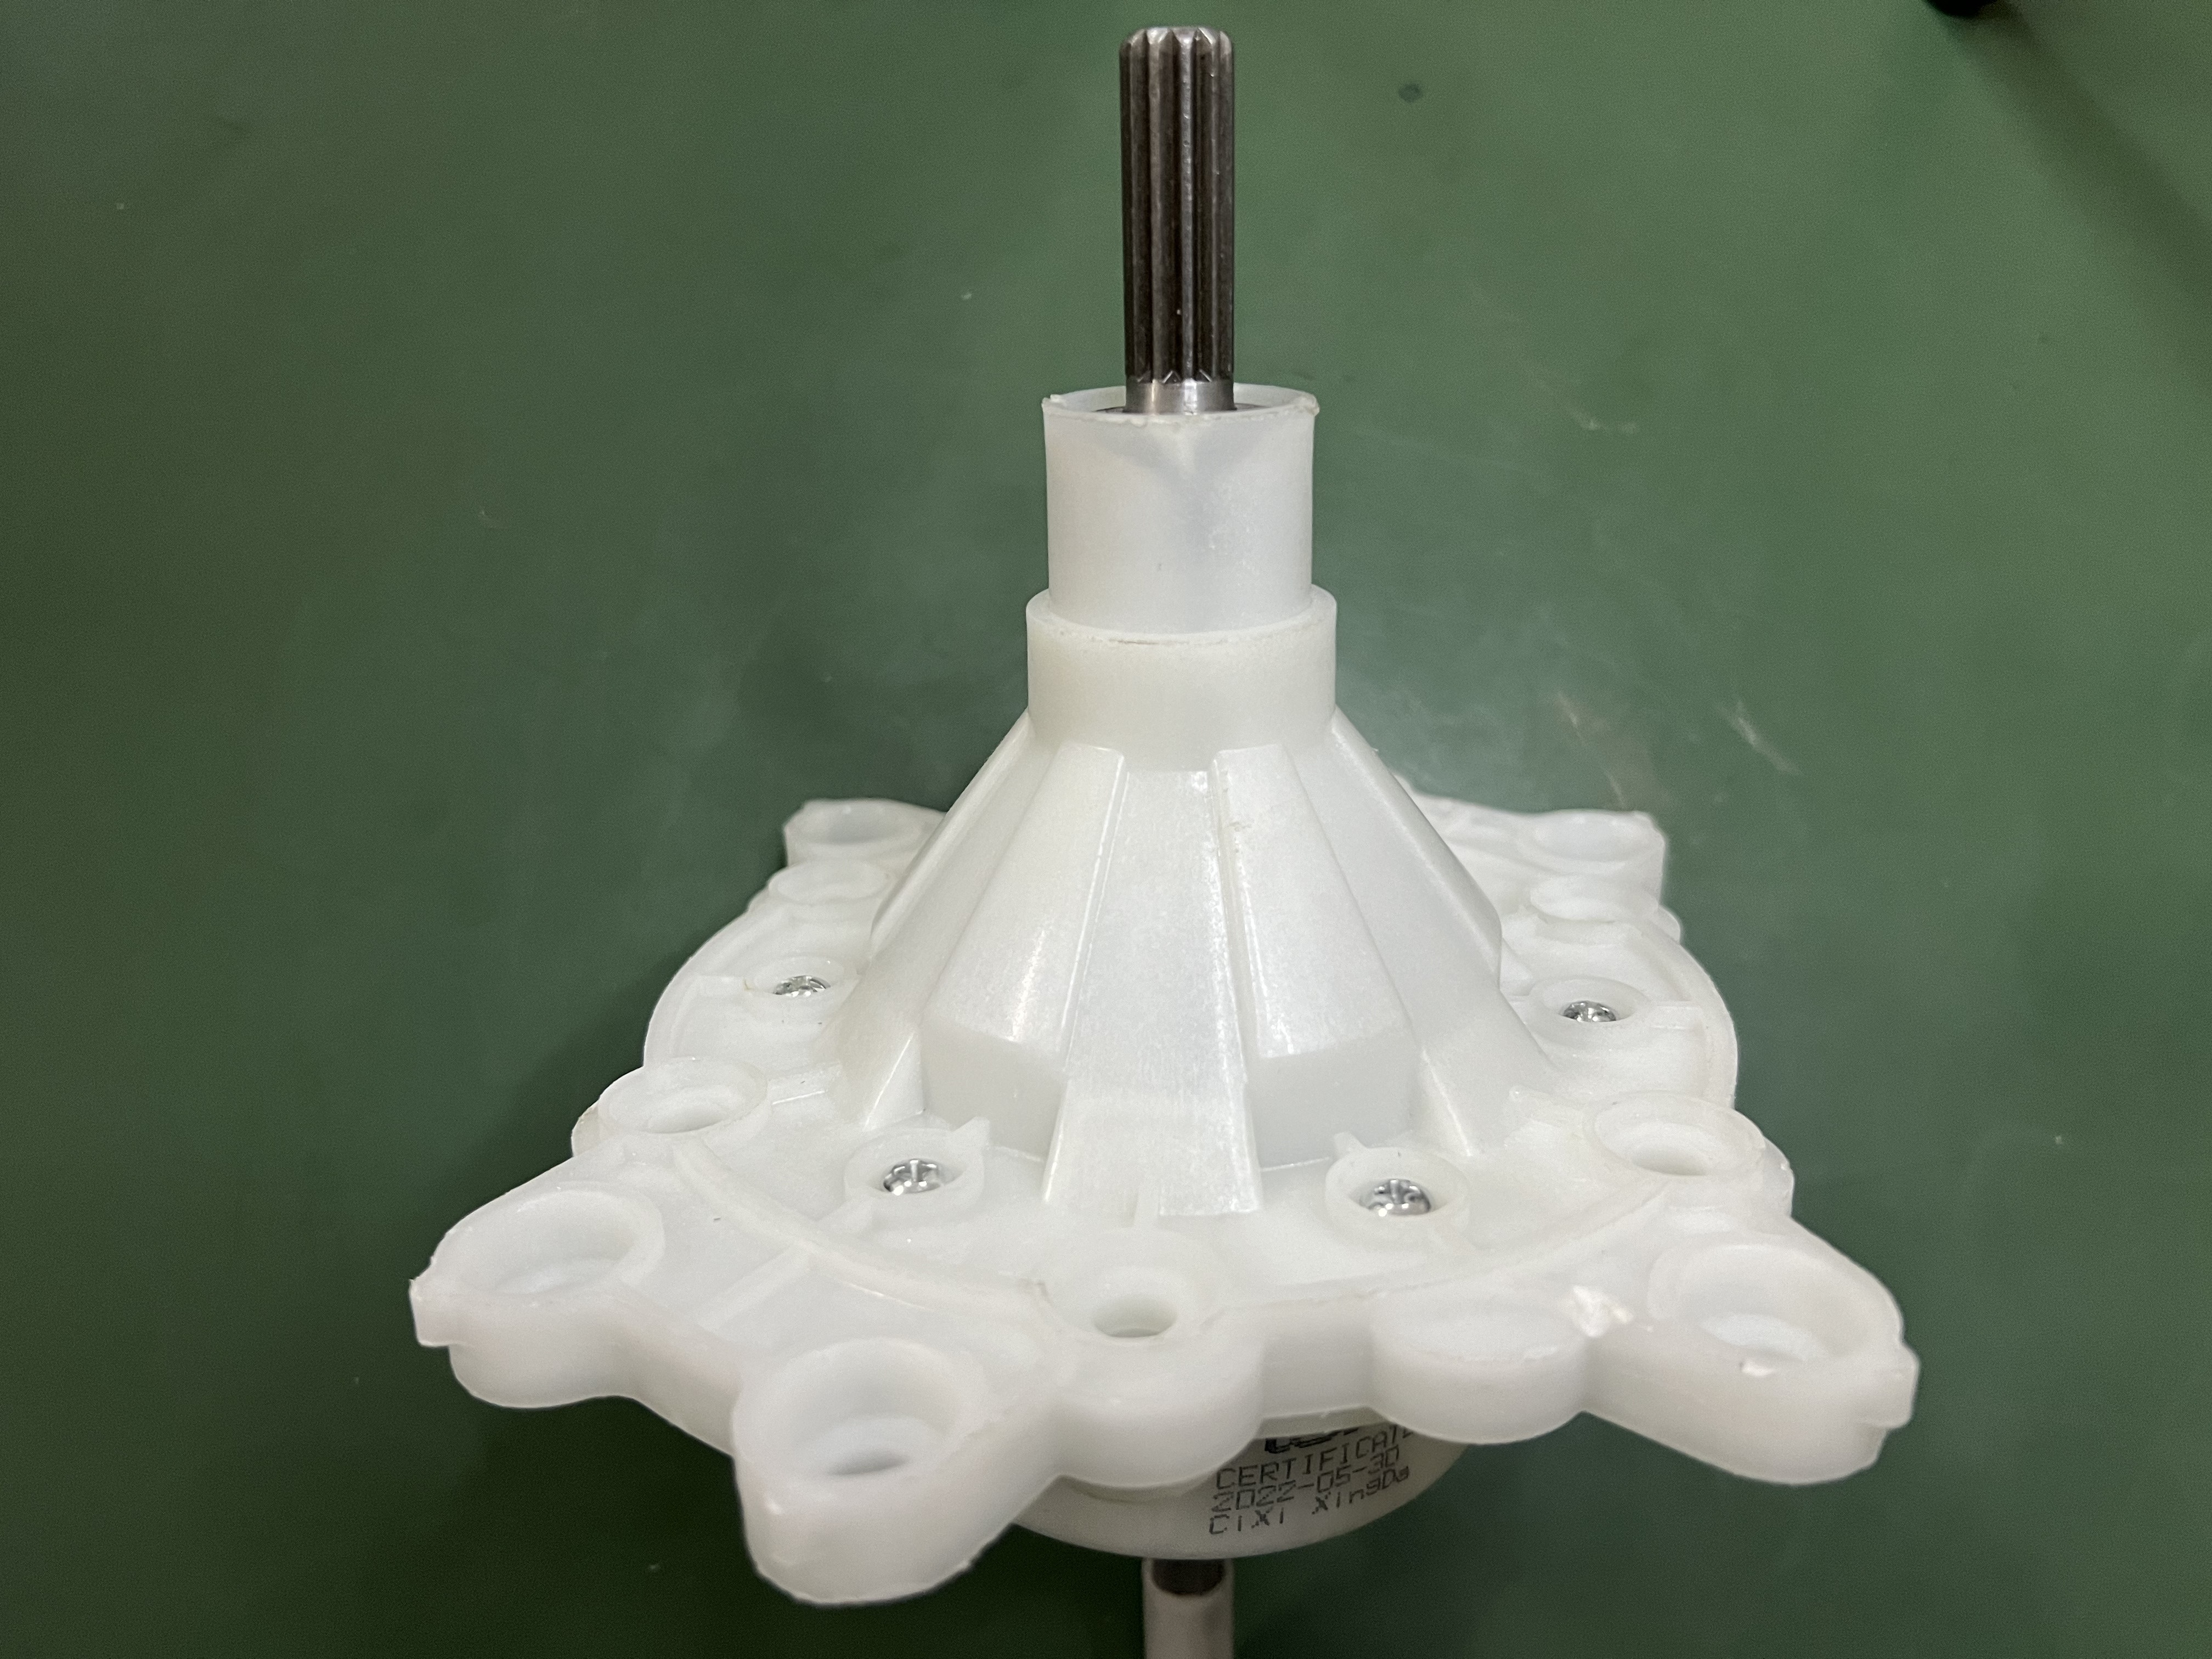gear_box_design: (378, 46, 1953, 1589)
